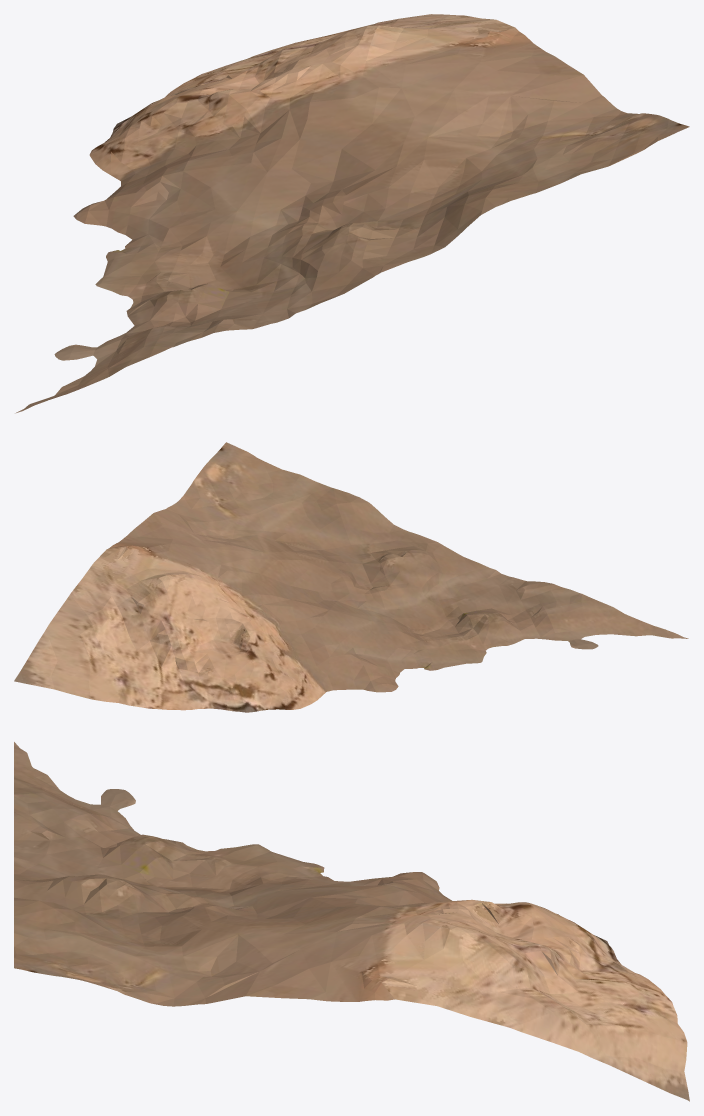
3 renders of one model, top to bottom at view 1: azimuth 30°, elevation 25°; view 2: azimuth 150°, elevation 25°; view 3: azimuth 270°, elevation 25°, orthographic. The views are drawn at different scales.
Bounding box in the file's own units: 0.9891 × 0.1707 × 0.7842.
1 material, 1 textured.
